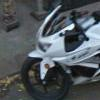Motorcycle: (15, 7, 100, 100)
